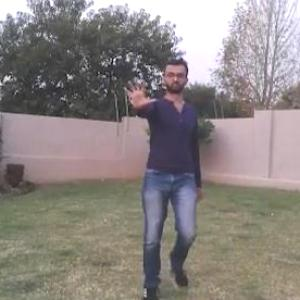follow_hand: (120, 70, 158, 109)
